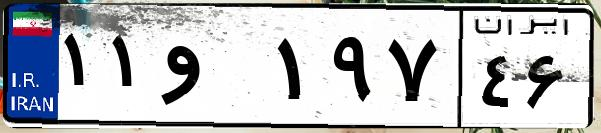1: (270, 28, 330, 110), (57, 26, 110, 100), (110, 28, 158, 98)
4: (475, 38, 525, 113)
6: (525, 38, 570, 115)
7: (385, 28, 445, 110)
9: (330, 28, 385, 110)
و: (158, 20, 270, 120)
